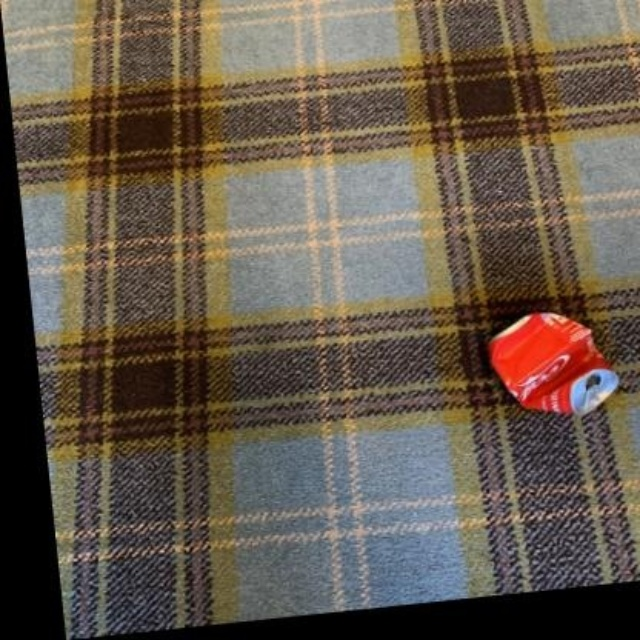trash: (489, 312, 617, 415)
